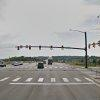Crosswalk: (0, 68, 99, 89)
